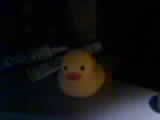duck: (57, 46, 100, 100)
